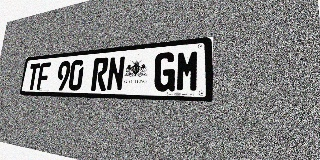0: (68, 59, 84, 91)
9: (56, 60, 71, 90)
F: (36, 62, 51, 90)
G: (153, 51, 176, 92)
M: (175, 49, 200, 92)
N: (106, 56, 126, 91)
R: (91, 57, 109, 91)
T: (26, 63, 40, 90)
